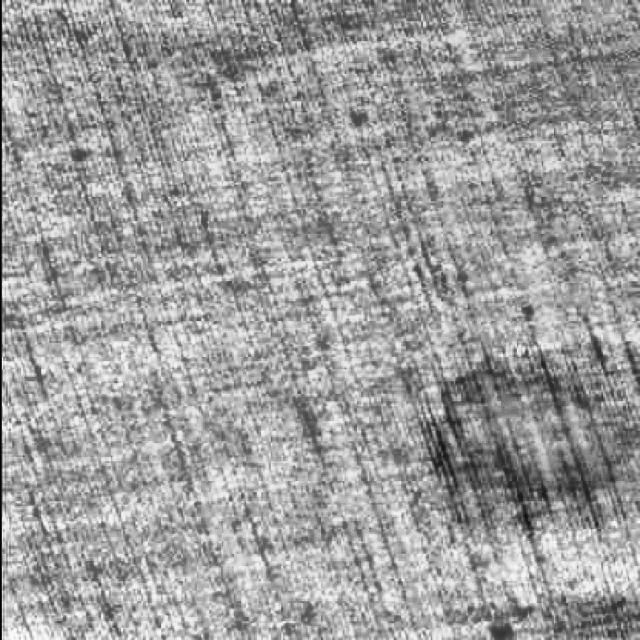oil_spot: (378, 315, 640, 523)
